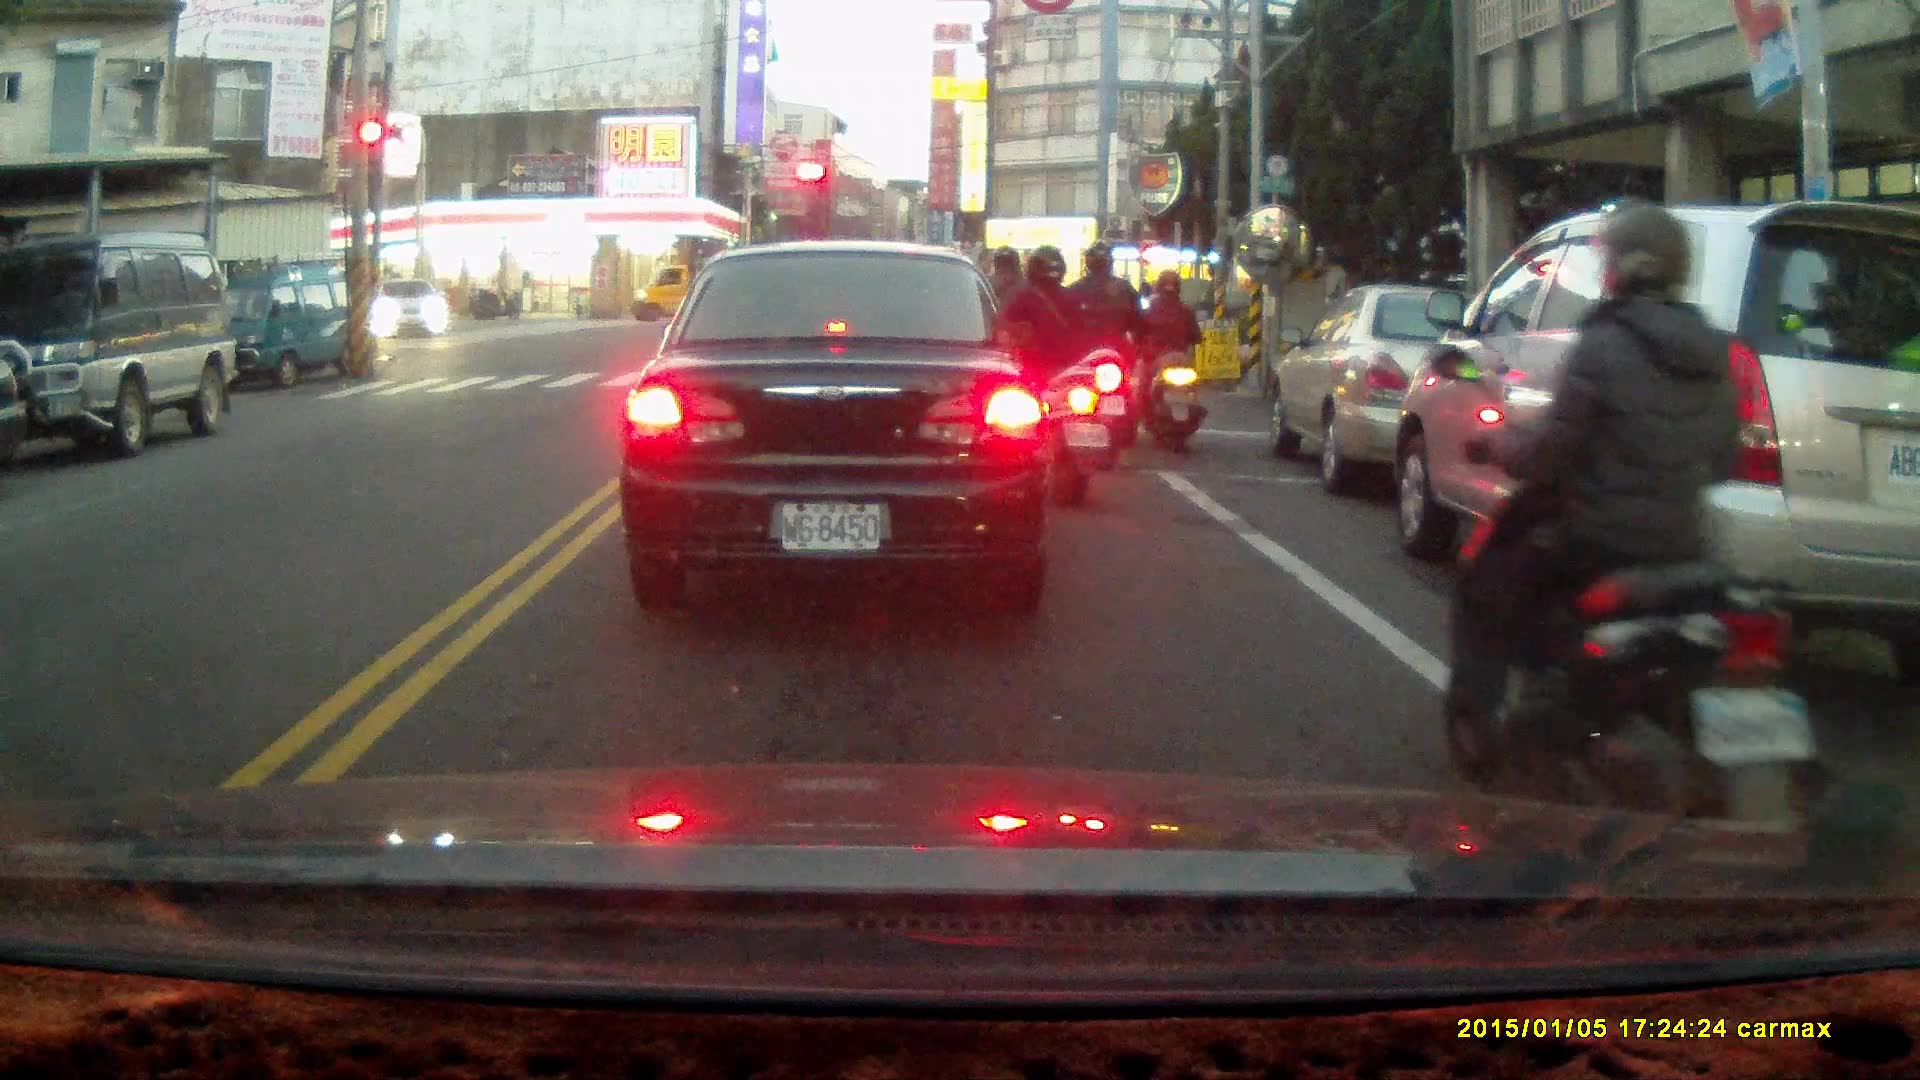rider: (1430, 195, 1828, 876), (980, 243, 1114, 514), (1048, 243, 1141, 469), (961, 241, 1053, 441), (1134, 269, 1204, 450), (466, 283, 521, 322)
vehicle: (1377, 195, 1920, 685), (617, 243, 1061, 606), (1, 234, 239, 458), (194, 255, 381, 394), (624, 261, 769, 323), (372, 277, 451, 343)
